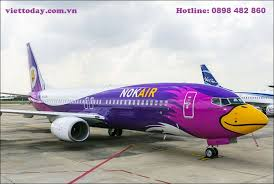maybay_dansu: (12, 54, 259, 156)
